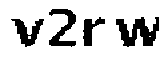2: (47, 4, 78, 48)
r: (82, 16, 107, 49)
v: (8, 17, 45, 49)
w: (115, 14, 160, 50)
